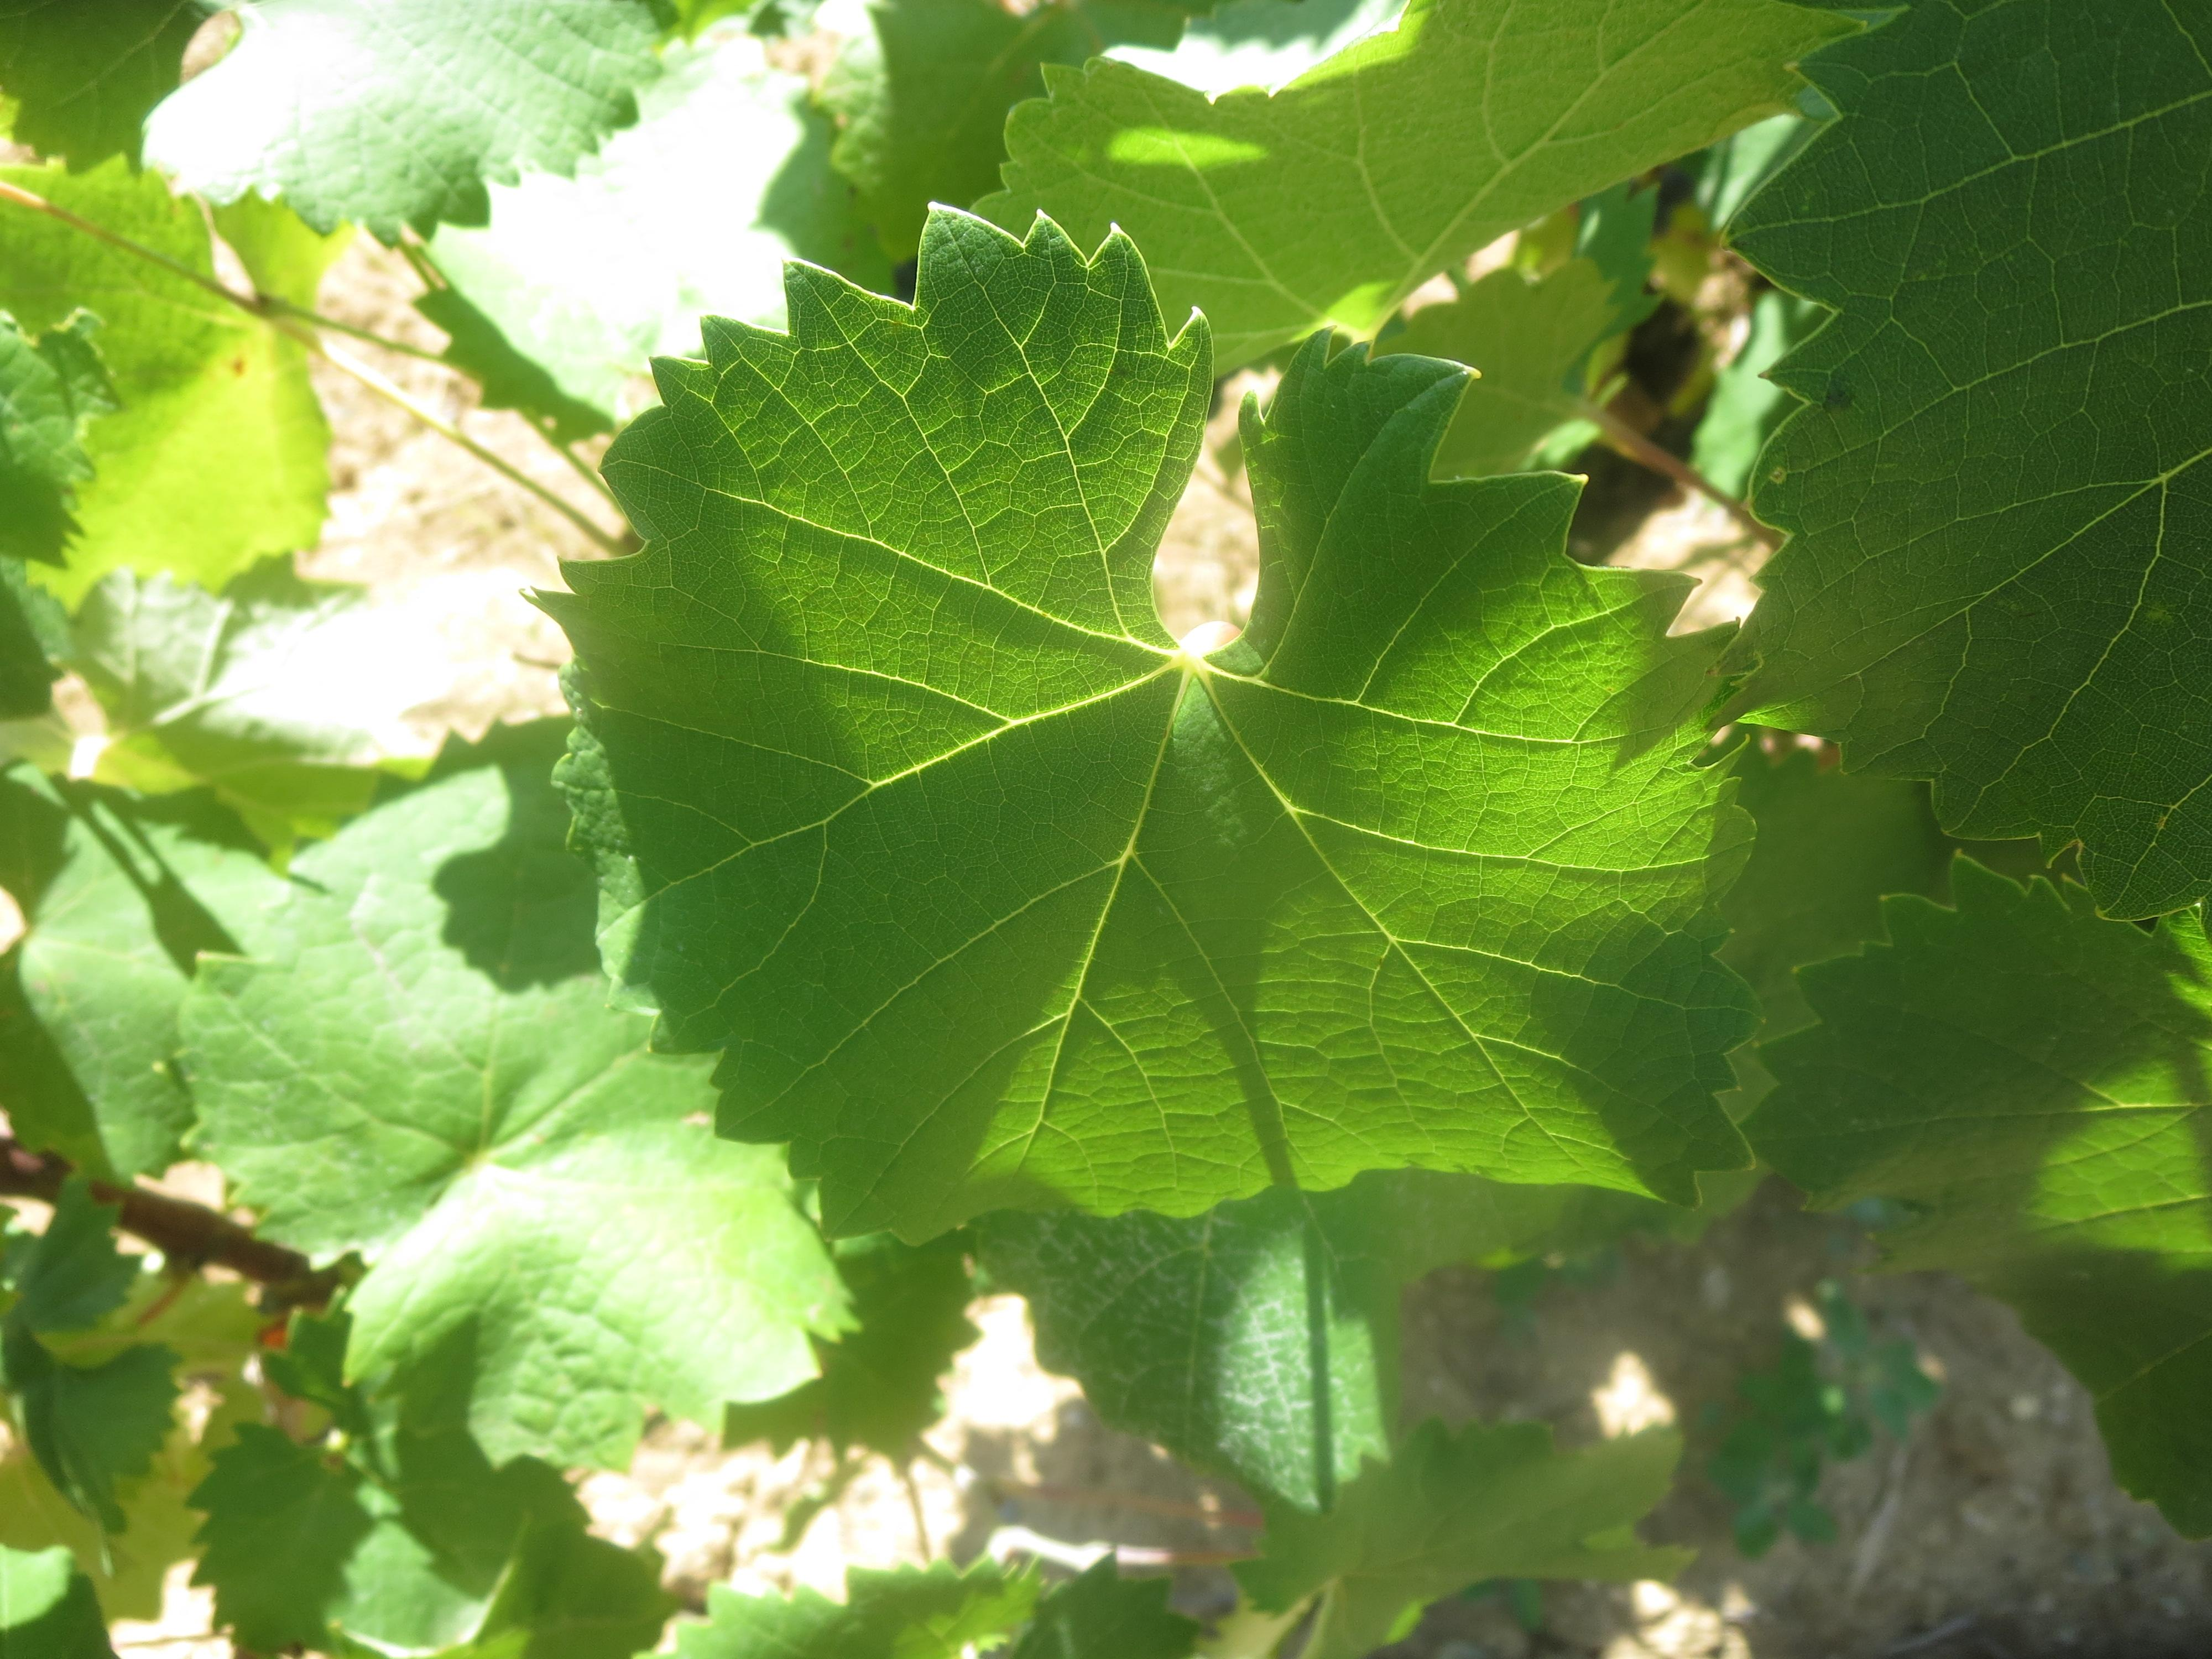grape leaf black rot: (507, 199, 1759, 1293), (146, 835, 871, 1452), (1757, 9, 2212, 917), (975, 5, 1865, 385), (1223, 1392, 1716, 1659)
